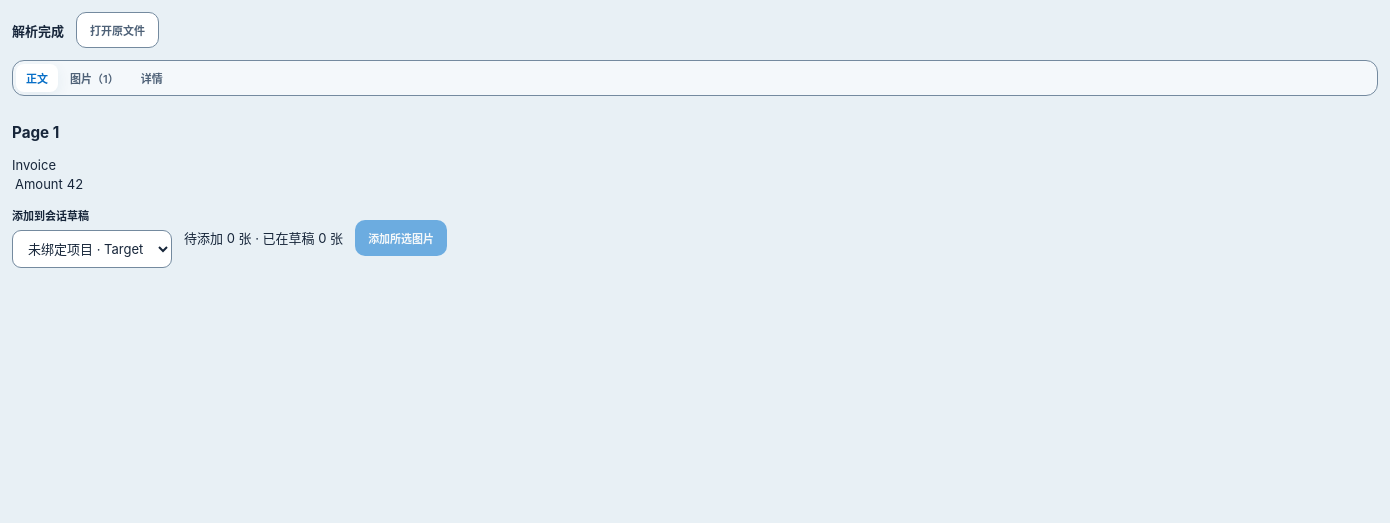
Test: starts with zero selected images and retains selections across tabs until explicit batch submission
Click the tab "图片（1）": {"x": 94, "y": 78} [60,64,129,92]
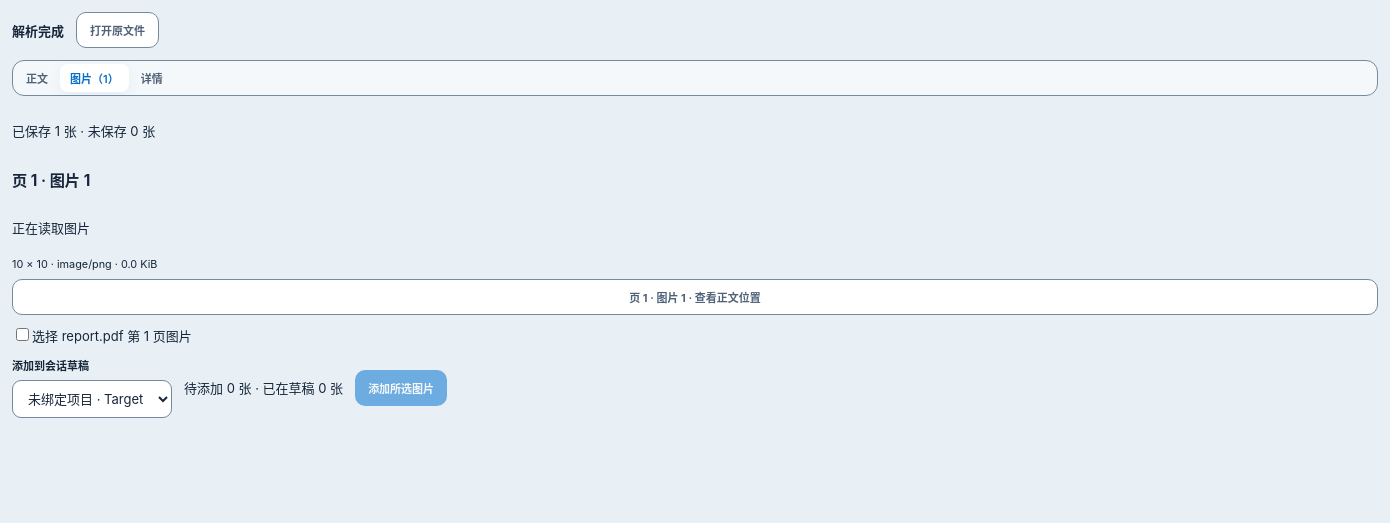
Expected: the button "添加所选图片" is disabled, [355,370,447,406]
Result: the checkbox is not checked
Click the checkbox: {"x": 22, "y": 335} [16,328,29,341]
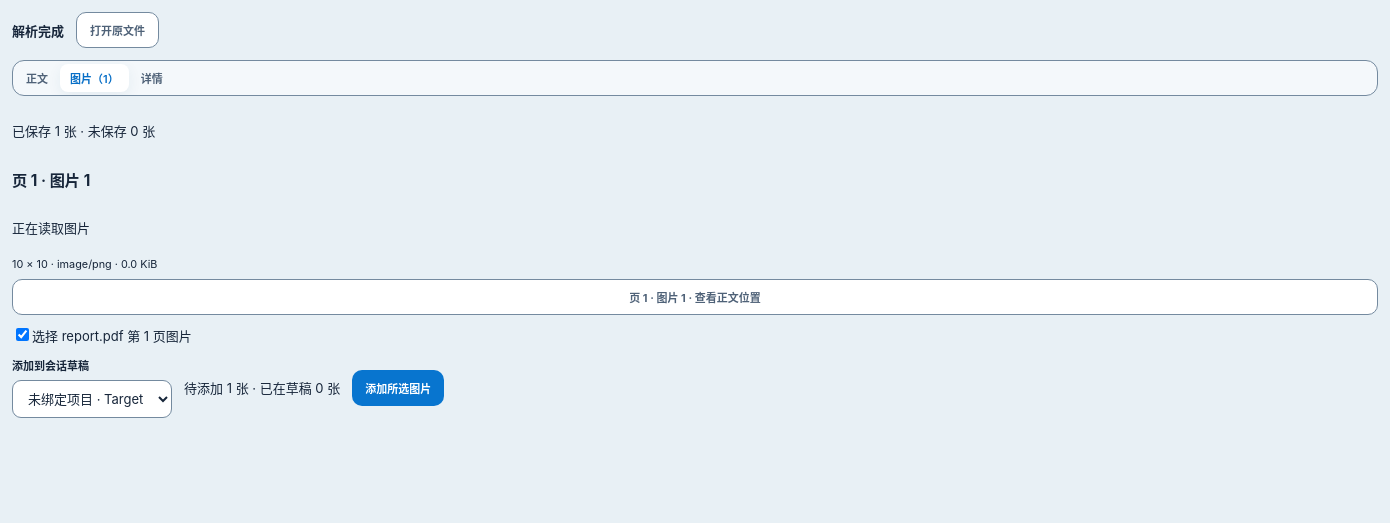
Click the tab "详情": {"x": 152, "y": 78} [131,64,173,92]
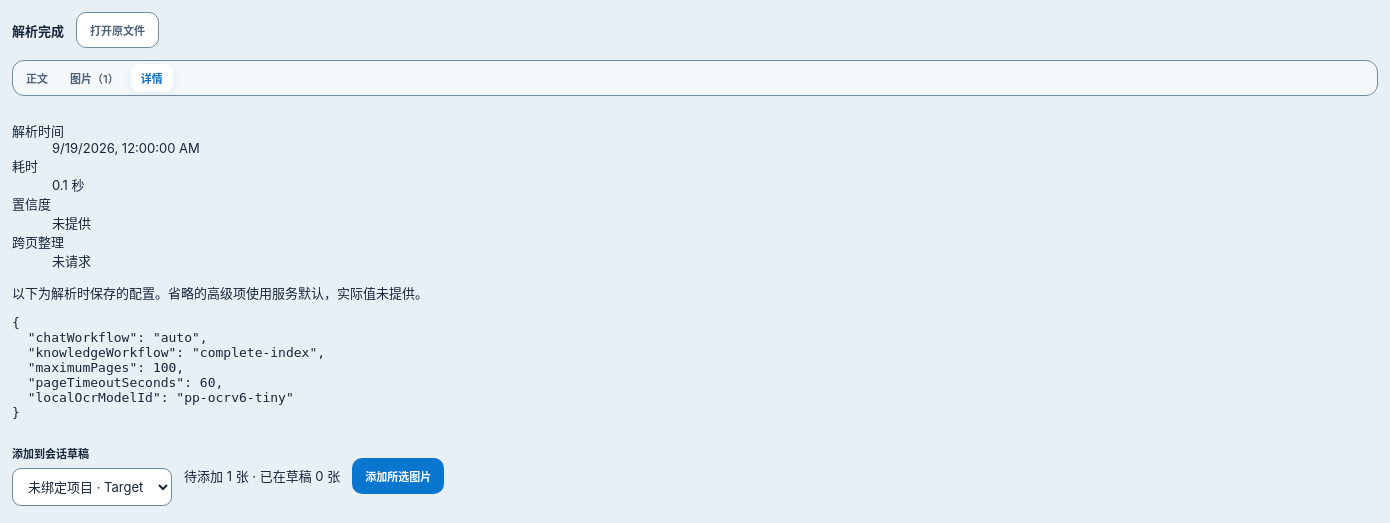
Click the tab "图片（1）": {"x": 94, "y": 78} [60,64,129,92]
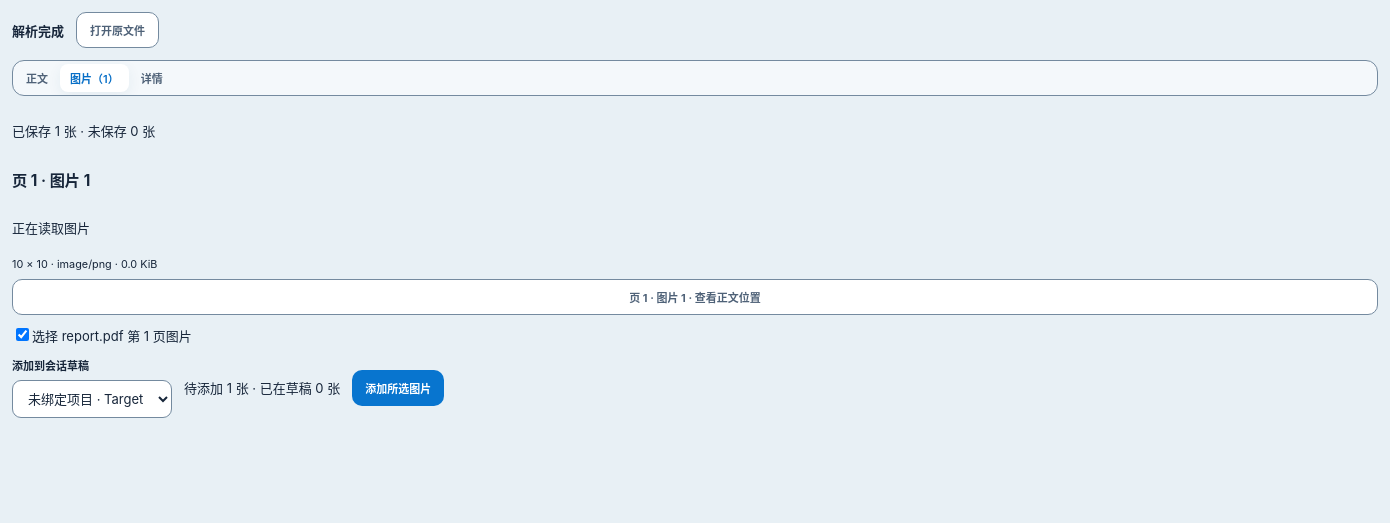
Result: the checkbox is checked at [16,328,29,341]
Click the button "添加所选图片": {"x": 398, "y": 388} [352,370,444,406]
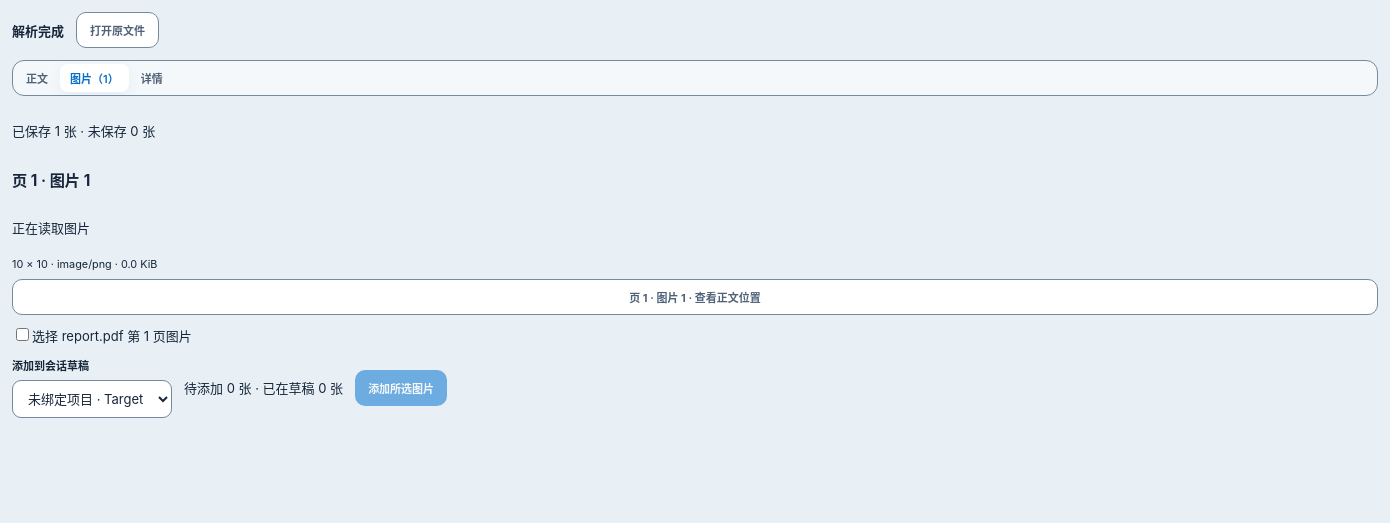
Result: the checkbox is not checked at [16,328,29,341]
